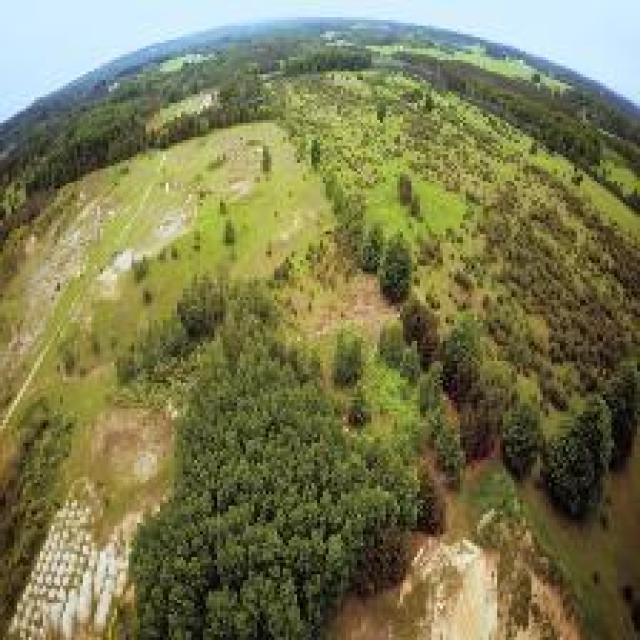other: (403, 520, 598, 632), (26, 472, 148, 631)
